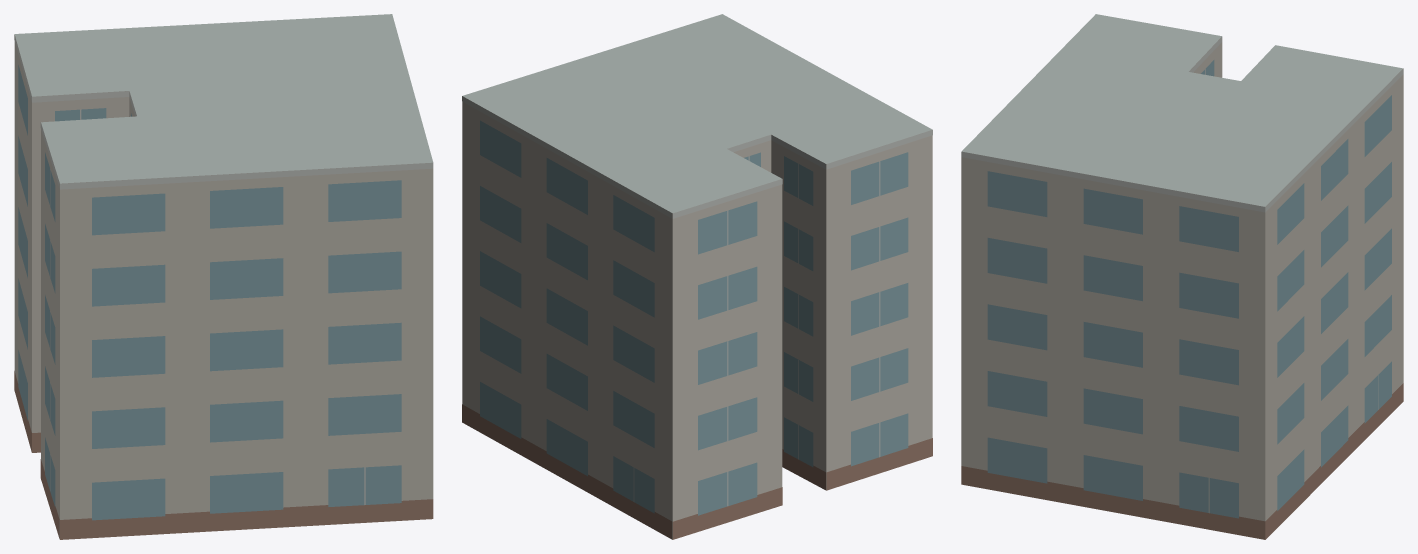
Rendered from survey-upis-32537552.glb.
3 renders of one model, left to right at view 1: azimuth 30°, elevation 25°; view 2: azimuth 150°, elevation 25°; view 3: azimuth 270°, elevation 25°, orthographic. The views are drawn at different scales.
Parts seen in each view (by area): view 1: survey-upis-32537552.tmp; view 2: survey-upis-32537552.tmp; view 3: survey-upis-32537552.tmp.
Part boxes in pixels (x1,y1,x2,y2): survey-upis-32537552.tmp: (14,14,433,539); survey-upis-32537552.tmp: (462,14,932,539); survey-upis-32537552.tmp: (961,14,1403,539).
Size of the model in its own units: 17.9 by 14.4 by 17.34.
